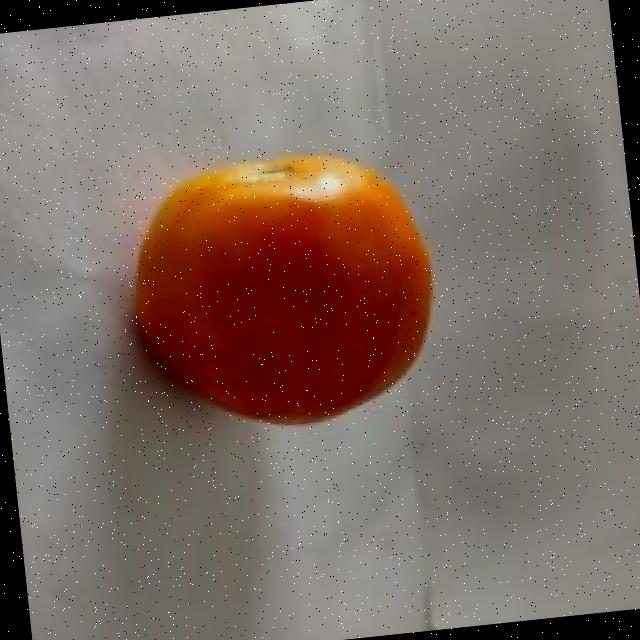Ripe: (116, 139, 445, 442)
